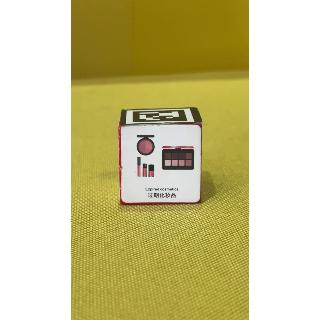Expired_Cosmetic: (121, 127, 205, 205)
